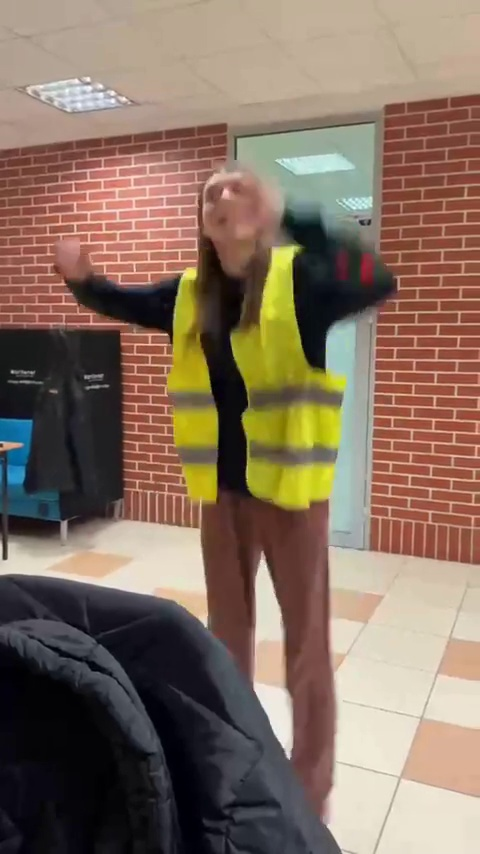vest: (120, 180, 402, 718)
